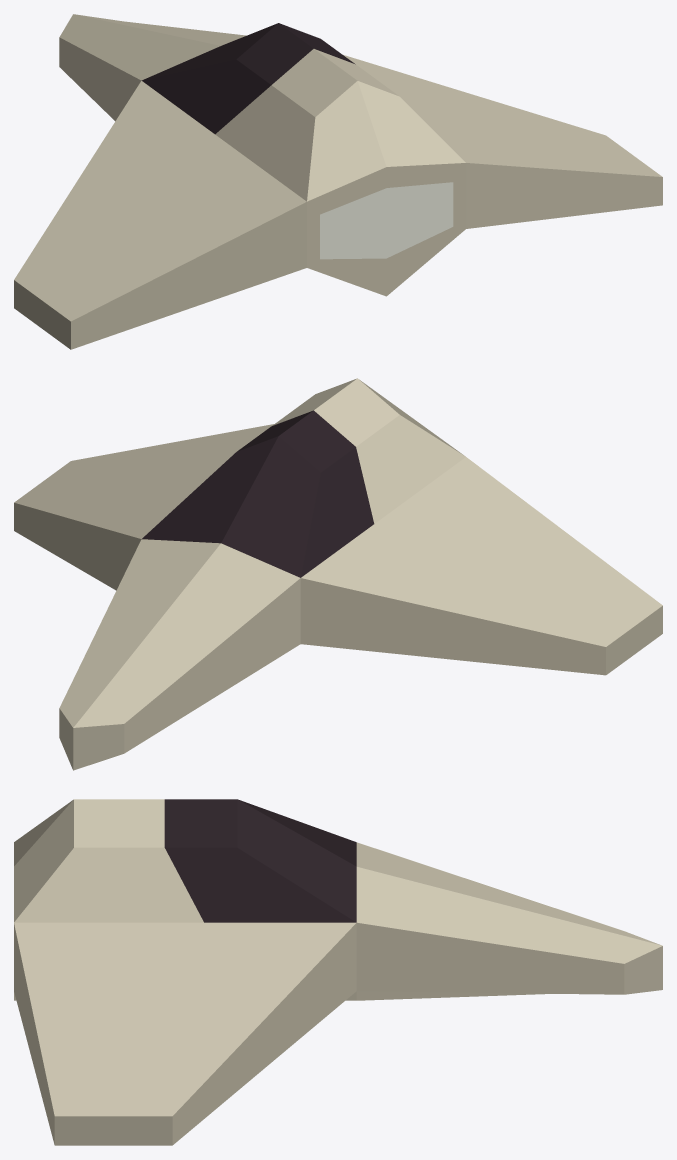
Rendered from fighter.dae.
The picture shows the model from 3 angles, top to bottom: view 1: azimuth 30°, elevation 25°; view 2: azimuth 150°, elevation 25°; view 3: azimuth 270°, elevation 25°; orthographic projection. The views are drawn at different scales.
Parts seen in each view (by area): view 1: Cube_002; view 2: Cube_002; view 3: Cube_002.
Part boxes in pixels (x1,y1,x2,y2): Cube_002: (14, 14, 662, 349); Cube_002: (14, 378, 662, 770); Cube_002: (14, 799, 662, 1145).
Bounding box in the file's own units: 0.8453 × 0.7749 × 0.2654.
Materials: 1 (1 with a texture image).
